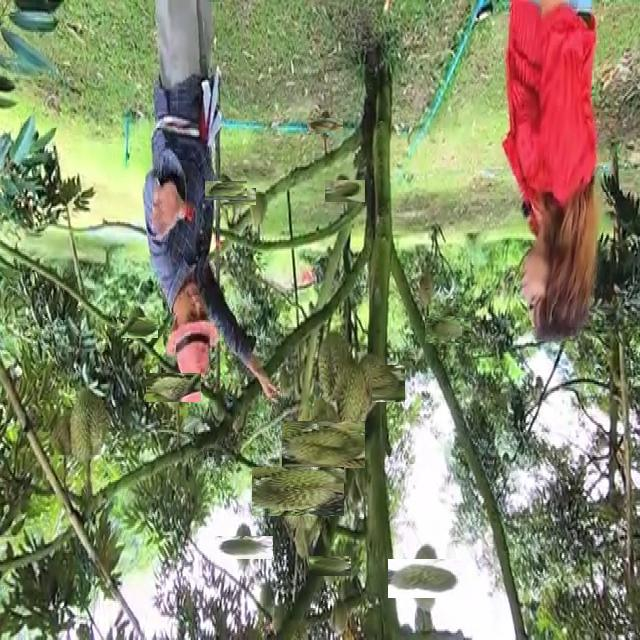durian: (262, 456, 333, 527), (291, 411, 356, 477), (66, 383, 110, 464), (329, 360, 372, 442), (396, 550, 453, 606), (343, 356, 398, 411), (317, 328, 354, 408), (152, 366, 195, 409), (48, 400, 74, 464), (224, 528, 264, 568), (430, 311, 466, 348), (329, 175, 361, 206), (314, 550, 345, 582), (122, 311, 153, 343), (418, 267, 438, 312), (211, 176, 241, 206), (251, 187, 269, 228), (311, 113, 338, 140), (225, 183, 252, 210)
